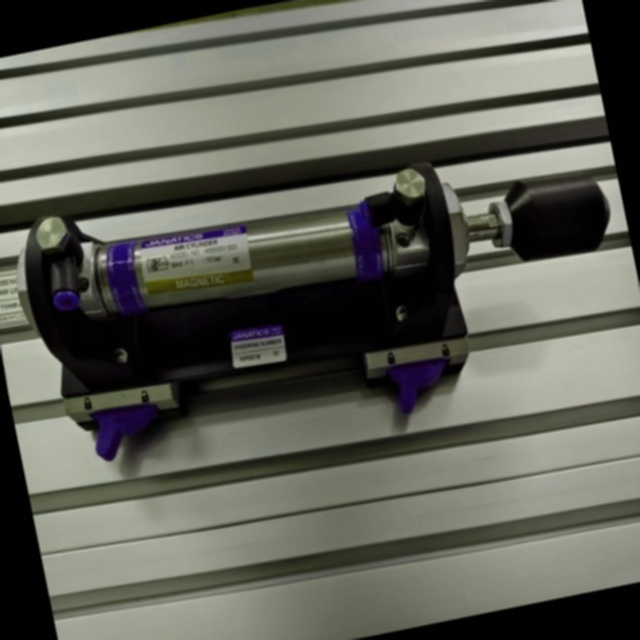double acting pneumatic cylinder: (0, 100, 640, 500)
push button: (0, 102, 640, 494)
